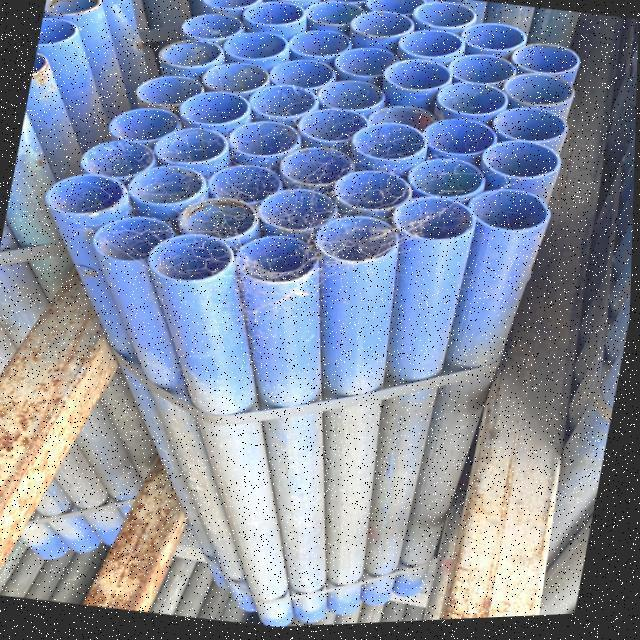pipe: (239, 236, 325, 287), (260, 189, 341, 241), (149, 237, 234, 286), (97, 215, 182, 264), (319, 217, 403, 264), (274, 147, 356, 192), (177, 198, 259, 243), (207, 167, 297, 208), (132, 167, 212, 213), (471, 194, 554, 238), (479, 142, 562, 186), (396, 200, 474, 246), (79, 139, 160, 183), (336, 172, 414, 216), (488, 111, 571, 152), (45, 173, 124, 216), (353, 123, 430, 166), (107, 108, 196, 145), (133, 76, 217, 115), (179, 93, 254, 135), (428, 121, 506, 161), (411, 162, 487, 203), (234, 118, 306, 161), (439, 83, 518, 121), (154, 129, 233, 167), (298, 107, 372, 146), (200, 59, 274, 98), (442, 58, 527, 91), (252, 84, 323, 122), (329, 49, 413, 81), (317, 82, 389, 117), (178, 11, 249, 46), (388, 59, 457, 95), (267, 60, 344, 91), (514, 47, 582, 81), (158, 38, 226, 72), (349, 13, 423, 43), (292, 31, 358, 64), (366, 109, 440, 137), (225, 32, 291, 63), (509, 80, 574, 111), (467, 27, 531, 58), (244, 2, 310, 29), (405, 33, 468, 61), (307, 3, 370, 30), (416, 7, 479, 33), (368, 0, 428, 20), (41, 19, 84, 43), (46, 0, 107, 15), (203, 0, 264, 14), (257, 0, 328, 11), (321, 0, 378, 9)
